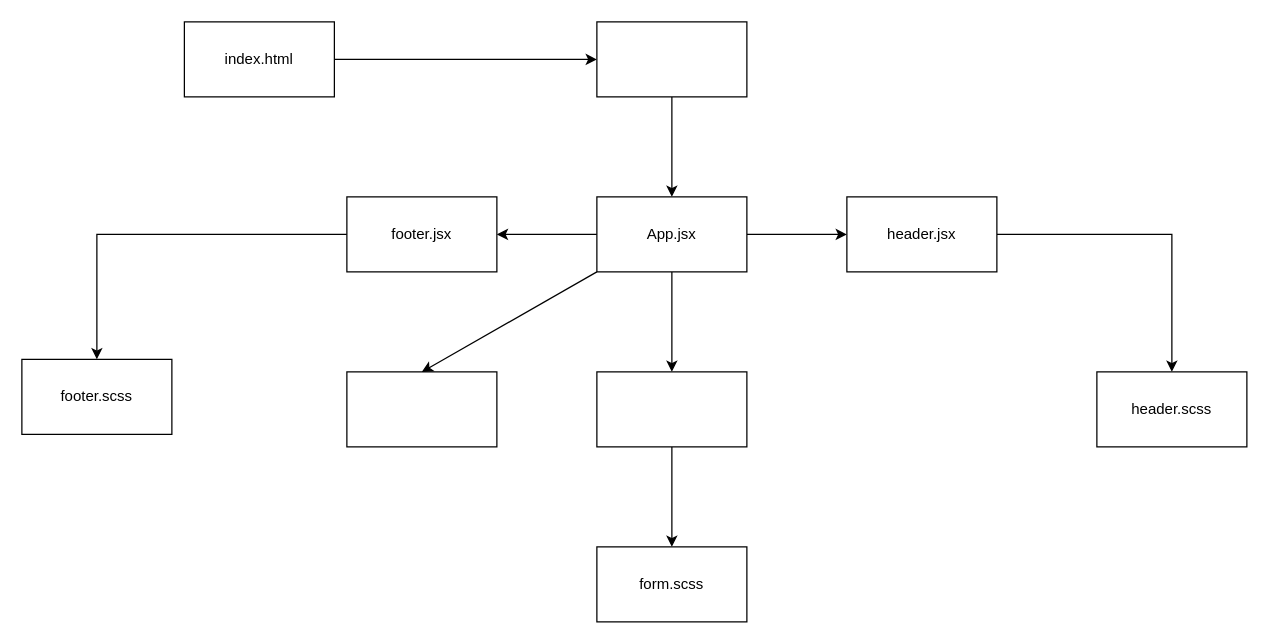
Some shapes in this 1269 by 644 pixel diagram are drawn without their labels. The centre of each missing label's shape, as x and y in pixels:
form.jsx: (x=671, y=409)
index.js: (x=671, y=59)
results.jsx: (x=421, y=409)
